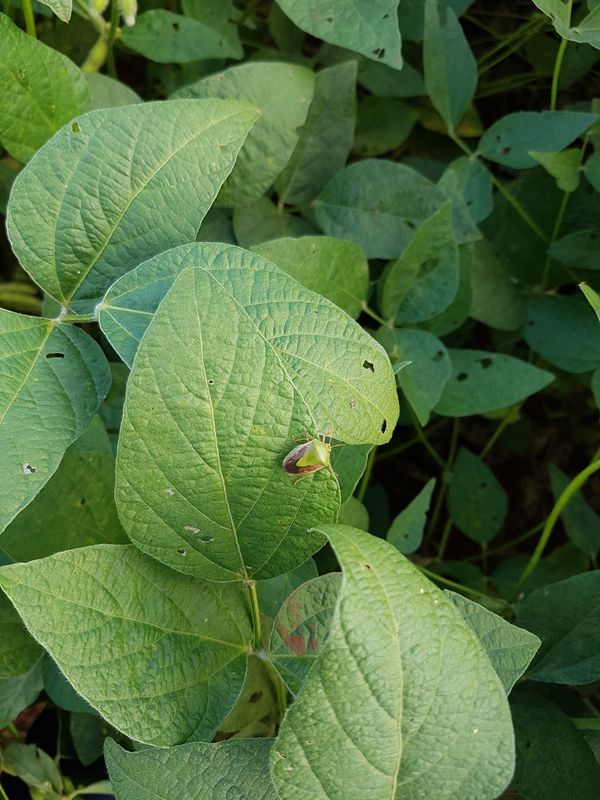Edessa_meditabunda: (271, 423, 354, 497)
